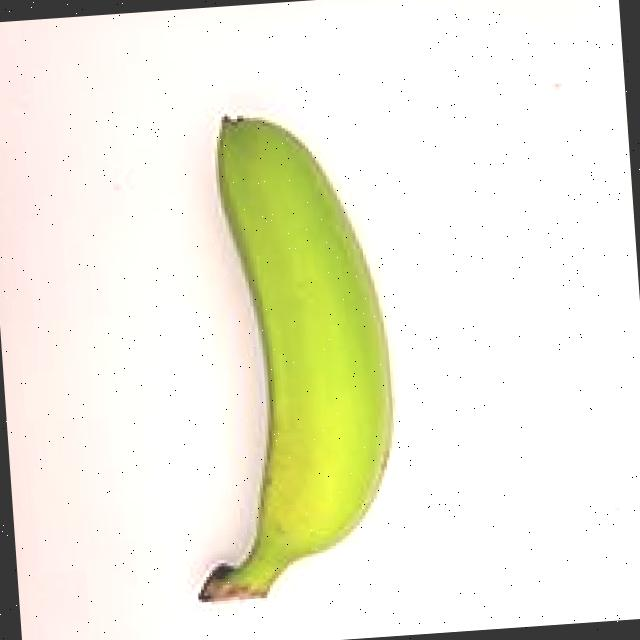Unripe: (130, 74, 436, 619)
